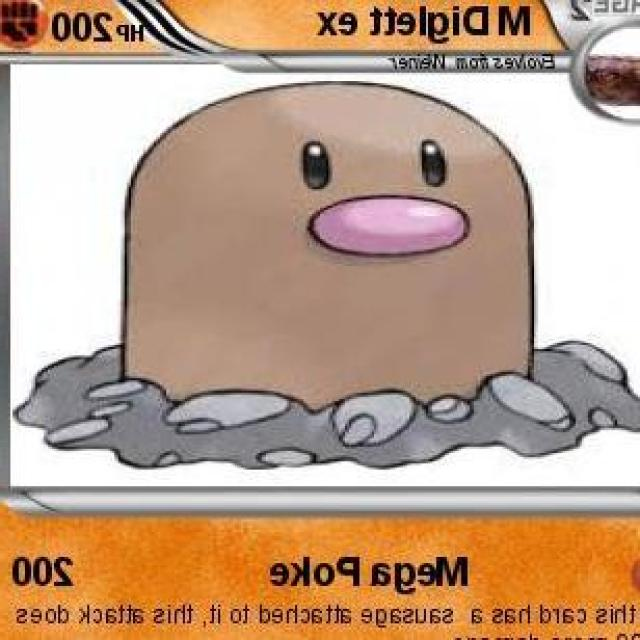Diglett: (117, 78, 534, 447)
